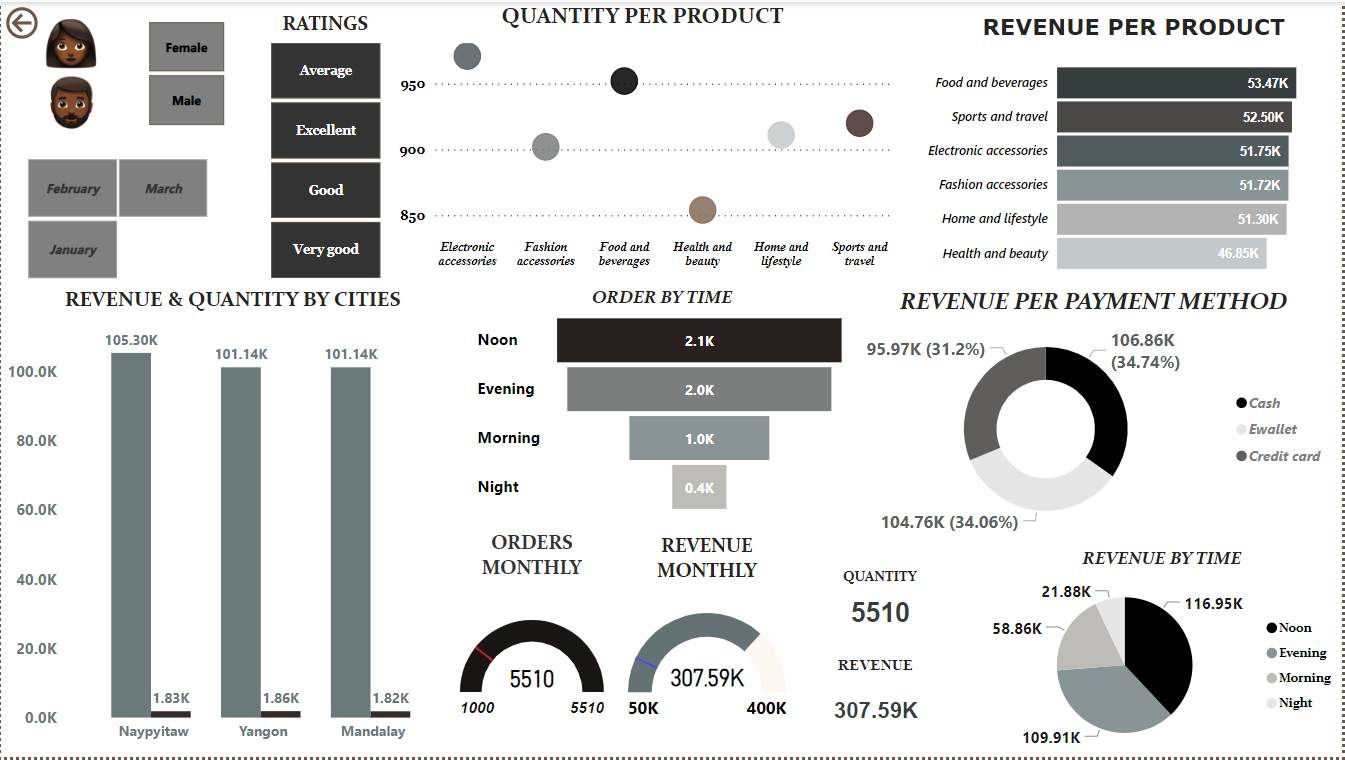

The page's visual inventory and layout, read from the dashboard file:
{"tool":"powerbi","page":{"name":" SUPERMARKET Visuals","canvas":[1280,720],"ordinal":0},"visuals":[{"type":"clusteredColumnChart","title":"REVENUE & QUANTITY BY CITIES","fields":{"Category":["AW Supermarket.City"],"Y":["Calc Table.Total Revenue","Calc Table.Total Quantity"]},"box":[0,270.2,442,444],"z":0},{"type":"clusteredBarChart","title":"REVENUE PER PRODUCT","fields":{"Category":["AW Supermarket.Product line"],"Y":["Calc Table.Total Revenue"]},"box":[877.5,10,402.2,257.7],"z":1000},{"type":"donutChart","title":"REVENUE PER PAYMENT METHOD","fields":{"Category":["AW Supermarket.Payment"],"Y":["Calc Table.Total Revenue"]},"box":[814,272.3,466,245.1],"z":2000},{"type":"slicer","fields":{"Values":["AW Supermarket.Gender"]},"box":[99.9,0,131.6,128.6],"z":3000},{"type":"slicer","fields":{"Values":["AW Supermarket.Month Name"]},"box":[0,128.7,220.9,141.5],"z":4000},{"type":"card","title":"QUANTITY","fields":{"Values":["Calc Table.Total Quantity"]},"box":[765.6,532.6,137.7,78.7],"z":5000},{"type":"card","title":"REVENUE","fields":{"Values":["Calc Table.Total Revenue"]},"box":[765.6,611.3,137.7,101.4],"z":6000},{"type":"slicer","title":"RATINGS","fields":{"Values":["AW Supermarket.Average Rating"]},"box":[231.5,9.1,154.3,261.7],"z":7000},{"type":"funnel","title":"ORDER BY TIME","fields":{"Category":["AW Supermarket.Purchase Time"],"Y":["Calc Table.Total Quantity"]},"box":[449.8,270.2,362.4,222.5],"z":8000},{"type":"pieChart","title":"REVENUE BY TIME","fields":{"Category":["AW Supermarket.Purchase Time"],"Y":["Calc Table.Total Revenue"]},"box":[938.1,517.4,340.4,202.7],"z":9000},{"type":"gauge","title":"REVENUE MONTHLY","fields":{"Y":["Calc Table.Total Revenue"]},"box":[586.5,505.4,181.2,213],"z":10000},{"type":"gauge","title":"ORDERS MONTHLY","fields":{"Y":["Calc Table.Total Quantity"]},"box":[426,492.7,160.5,225.7],"z":11000},{"type":"actionButton","box":[0,0,100,40],"z":12000},{"type":"image","box":[19.1,9.5,97,58.8],"z":13000},{"type":"image","box":[17.5,65.2,100.1,60.4],"z":14000},{"type":"scatterChart","title":"QUANTITY PER PRODUCT","fields":{"X":["AW Supermarket.Product line"],"Y":["Sum(AW Supermarket.Quantity)"]},"box":[363.1,0,493.2,261.7],"z":15000}]}

Visuals, with their boxes in screenshot pixels (x1, y1, x2, y2), scaled from the page's 1280x720 canvas onto the 1345x760 screenshot:
"REVENUE & QUANTITY BY CITIES" clusteredColumnChart: 0, 285, 464, 754
"REVENUE PER PRODUCT" clusteredBarChart: 922, 11, 1344, 283
"REVENUE PER PAYMENT METHOD" donutChart: 855, 287, 1344, 546
slicer - AW Supermarket.Gender: 105, 0, 243, 136
slicer - AW Supermarket.Month Name: 0, 136, 232, 285
"QUANTITY" card: 804, 562, 949, 645
"REVENUE" card: 804, 645, 949, 752
"RATINGS" slicer: 243, 10, 405, 286
"ORDER BY TIME" funnel: 473, 285, 853, 520
"REVENUE BY TIME" pieChart: 986, 546, 1343, 759
"REVENUE MONTHLY" gauge: 616, 533, 807, 758
"ORDERS MONTHLY" gauge: 448, 520, 616, 758
actionButton: 0, 0, 105, 42
image: 20, 10, 122, 72
image: 18, 69, 124, 133
"QUANTITY PER PRODUCT" scatterChart: 382, 0, 900, 276
